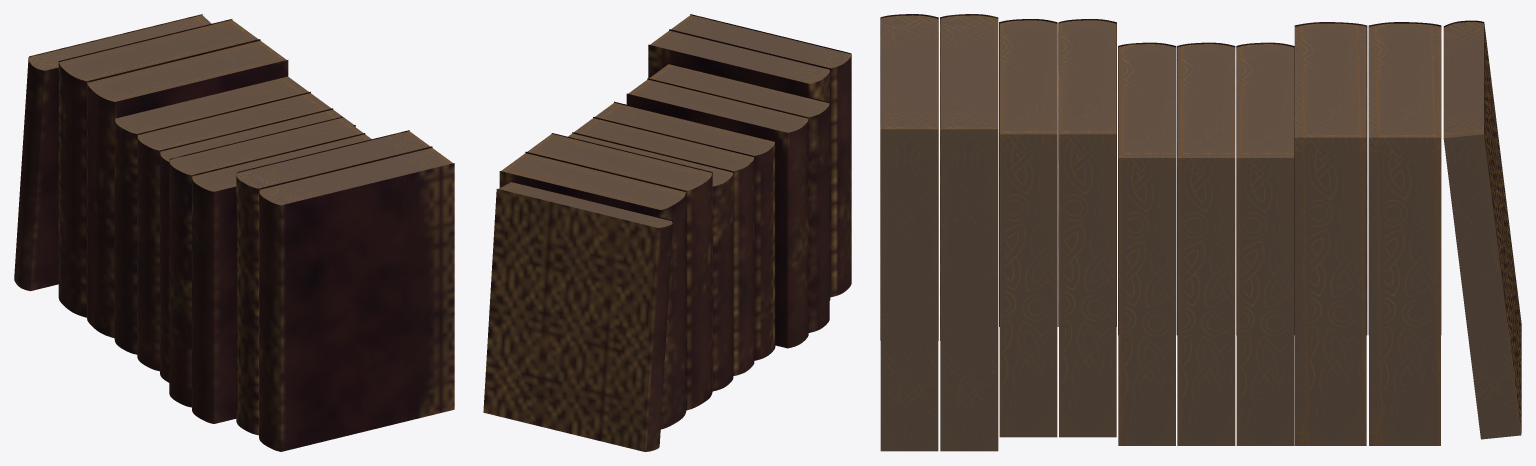
The model's file is SM_BookPile6.fbx.
3 renders of one model, left to right at view 1: azimuth 30°, elevation 25°; view 2: azimuth 150°, elevation 25°; view 3: azimuth 270°, elevation 25°, orthographic. The views are drawn at different scales.
Visible parts, largest first — view 1: SM_BookPile6_LOD0; view 2: SM_BookPile6_LOD0; view 3: SM_BookPile6_LOD0.
Part boxes in pixels (<box>): SM_BookPile6_LOD0: <box>14,14,454,451</box>; SM_BookPile6_LOD0: <box>483,14,851,451</box>; SM_BookPile6_LOD0: <box>880,14,1521,451</box>.
Size of the model in its own units: 37.76 by 79.72 by 44.64.
Materials: 1 (1 with a texture image).
